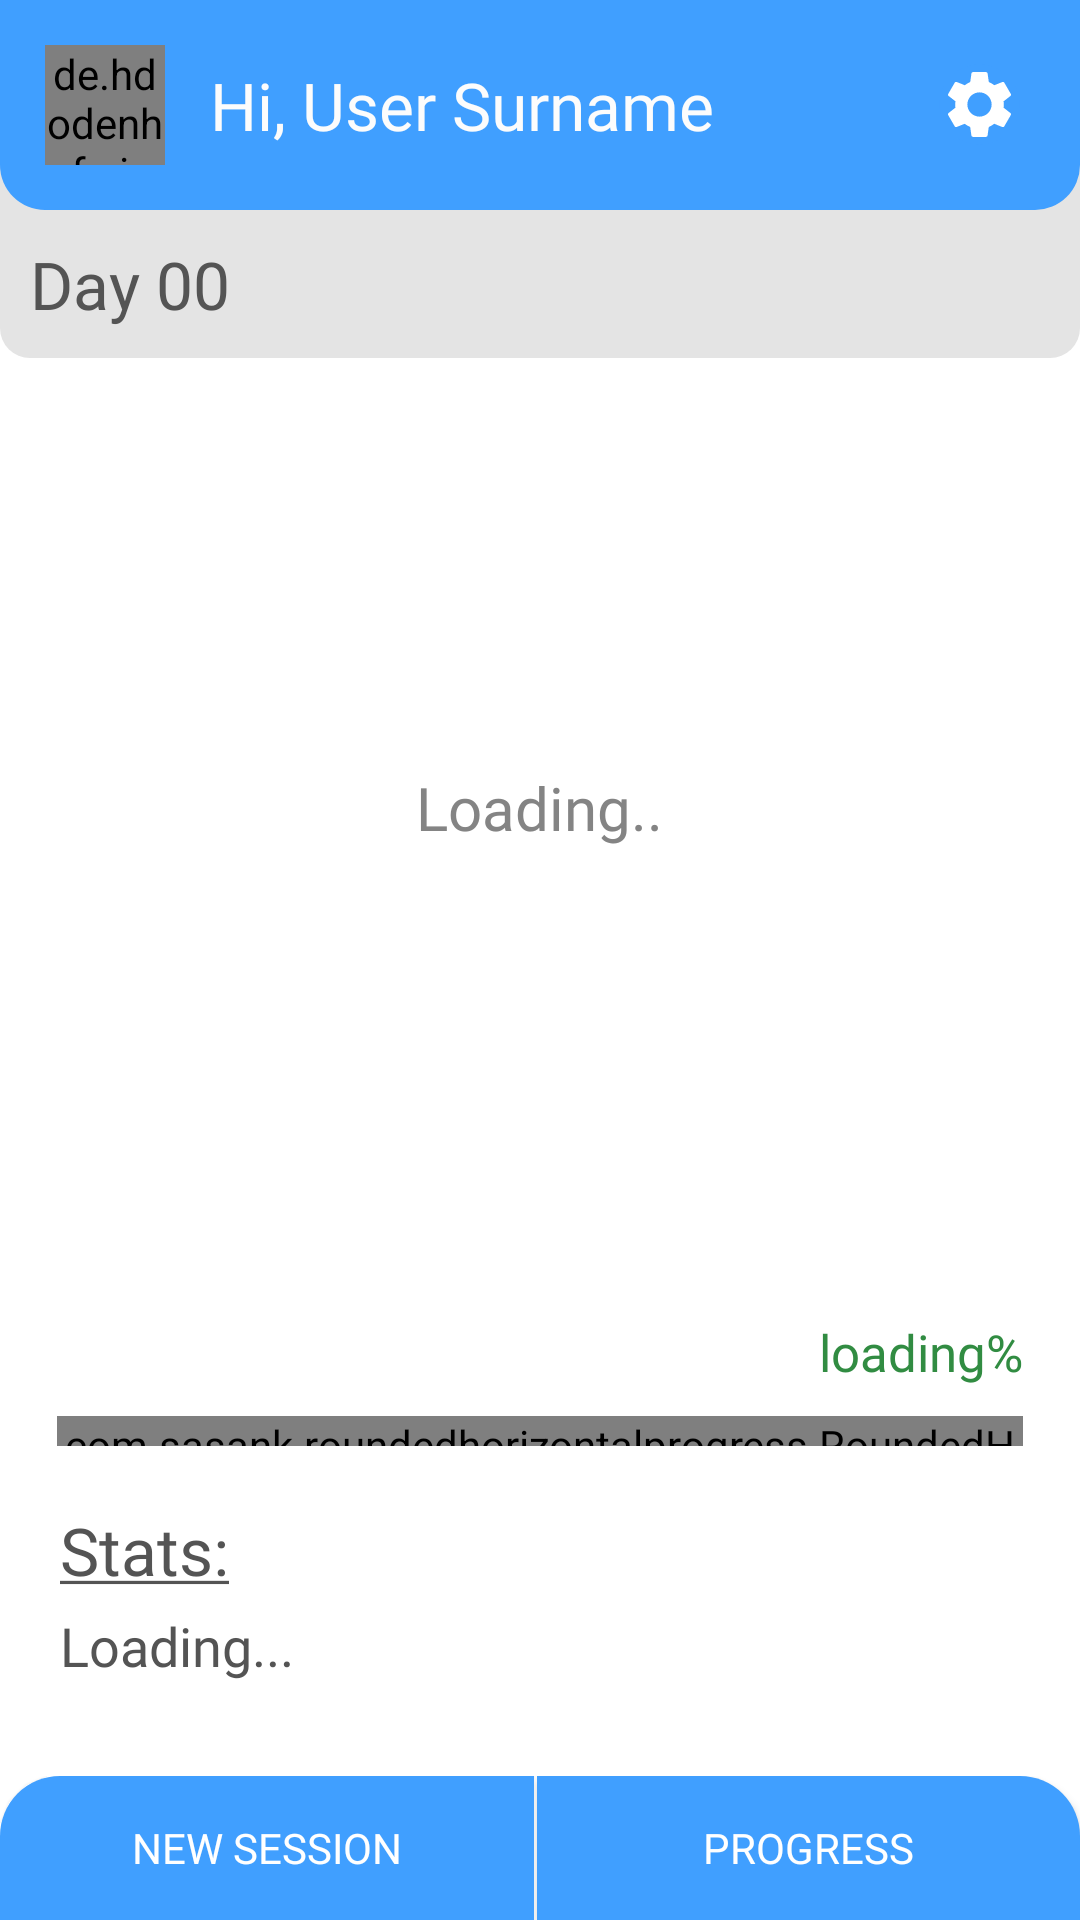

Icon bounding boxes for this 1080*1920 phone screenshot, format (x1, y1, x2, y2):
settings: (948, 72, 1011, 137)
